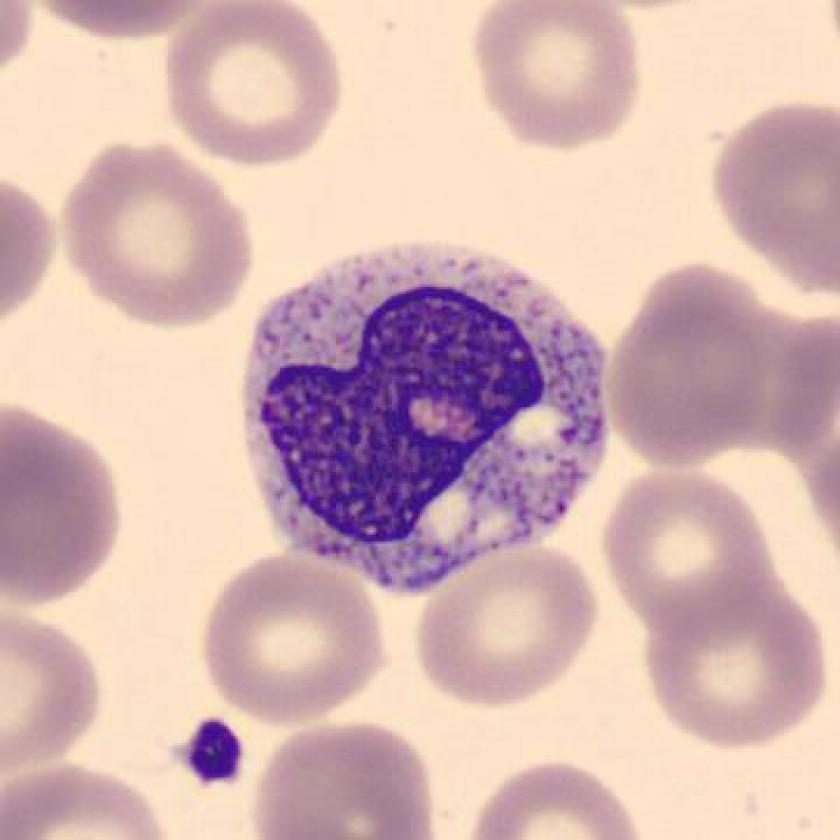monocyte: (223, 228, 631, 607)
